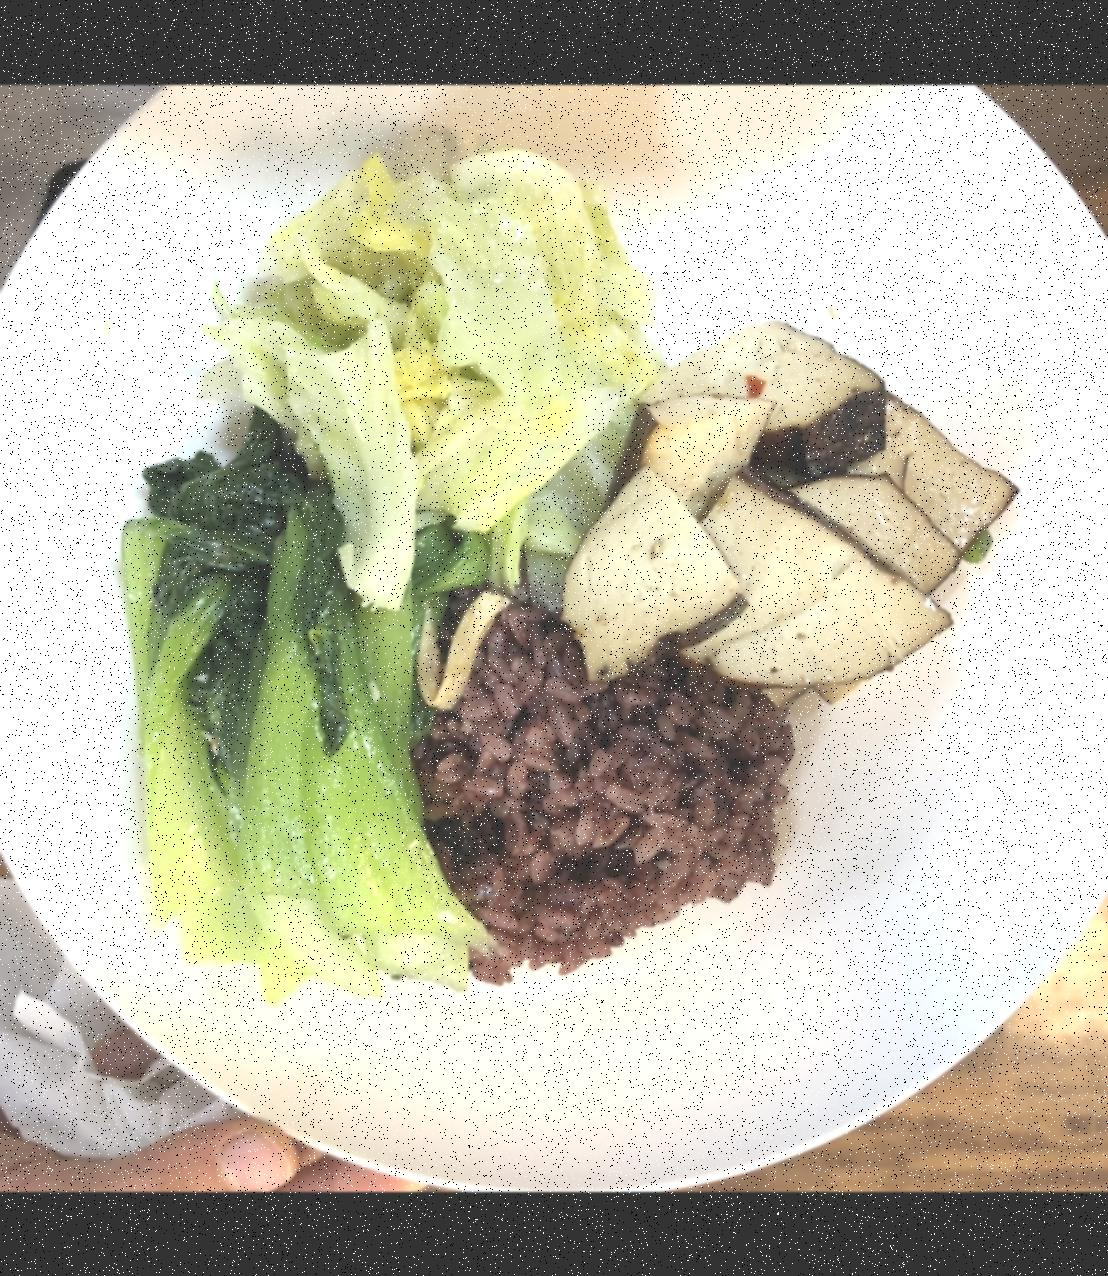plate: (0, 84, 1108, 1179)
purple rice: (389, 598, 798, 986)
side dish: (90, 446, 498, 993), (193, 129, 655, 594), (559, 318, 1016, 697)
